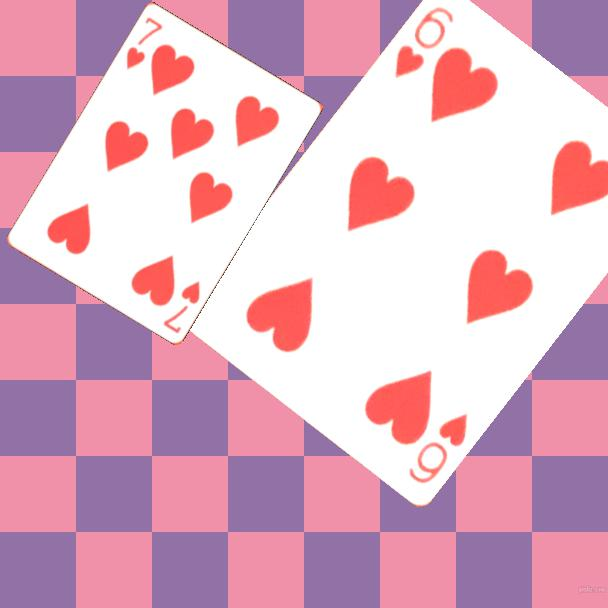h06: (390, 2, 457, 81), (404, 409, 471, 486)
h07: (122, 13, 166, 72), (159, 277, 203, 336)
